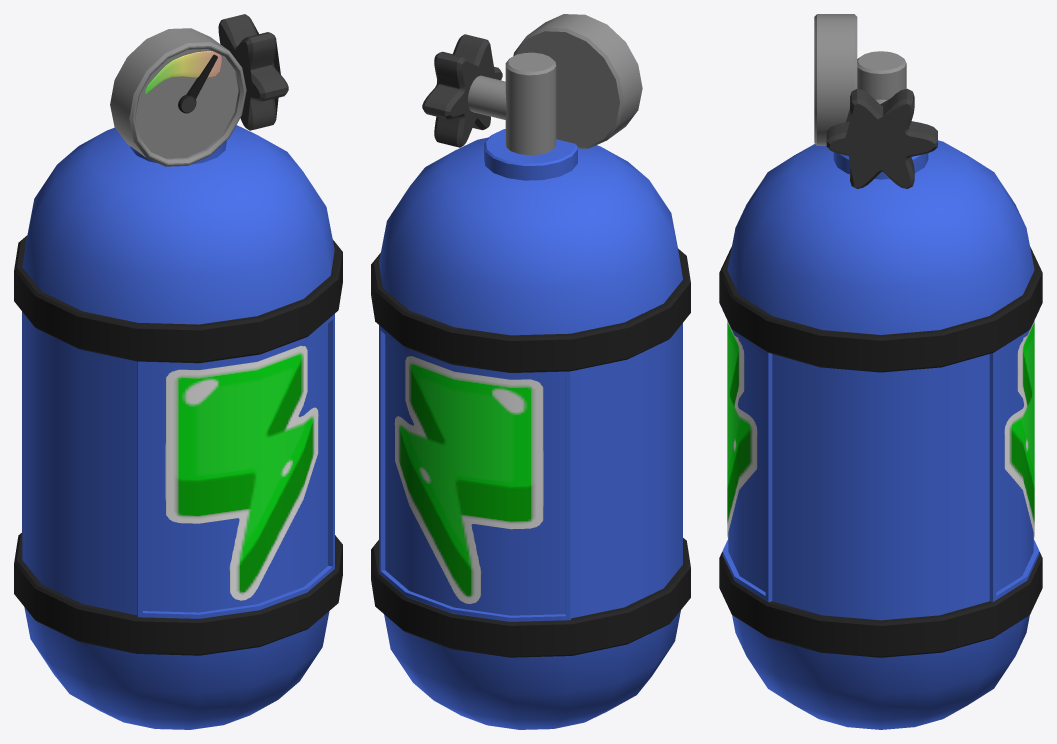
File: NOS.fbx
The picture shows the model from 3 angles, left to right: view 1: azimuth 30°, elevation 25°; view 2: azimuth 150°, elevation 25°; view 3: azimuth 270°, elevation 25°; orthographic projection. The views are drawn at different scales.
Visible parts, largest first — view 1: nos; view 2: nos; view 3: nos.
Part boxes in pixels (x1=…): nos: x1=14, y1=14, x2=342, y2=729; nos: x1=371, y1=14, x2=690, y2=729; nos: x1=719, y1=14, x2=1042, y2=729.
Size of the model in its own units: 0.3984 by 0.9114 by 0.3984.
